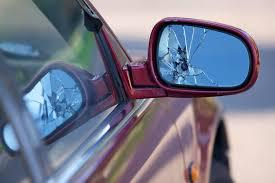Sidemirror-Damage: (139, 16, 263, 107)
